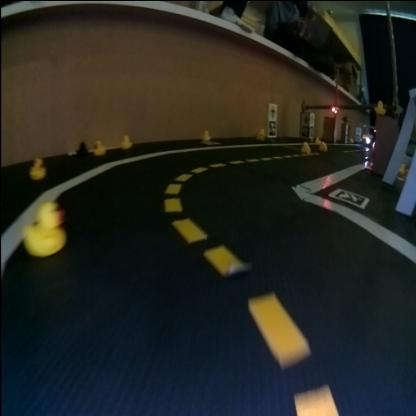Duckie: (23, 203, 67, 255), (29, 158, 45, 176), (93, 140, 106, 152), (300, 140, 310, 152), (375, 100, 384, 112), (122, 135, 132, 145), (202, 129, 210, 139), (257, 127, 264, 138), (319, 140, 326, 149), (399, 164, 405, 172)
Intersection sign: (270, 106, 276, 118), (302, 112, 308, 124)
QR code: (329, 188, 368, 206), (270, 120, 276, 134), (302, 126, 308, 134)
Traffic light: (332, 102, 338, 113)
